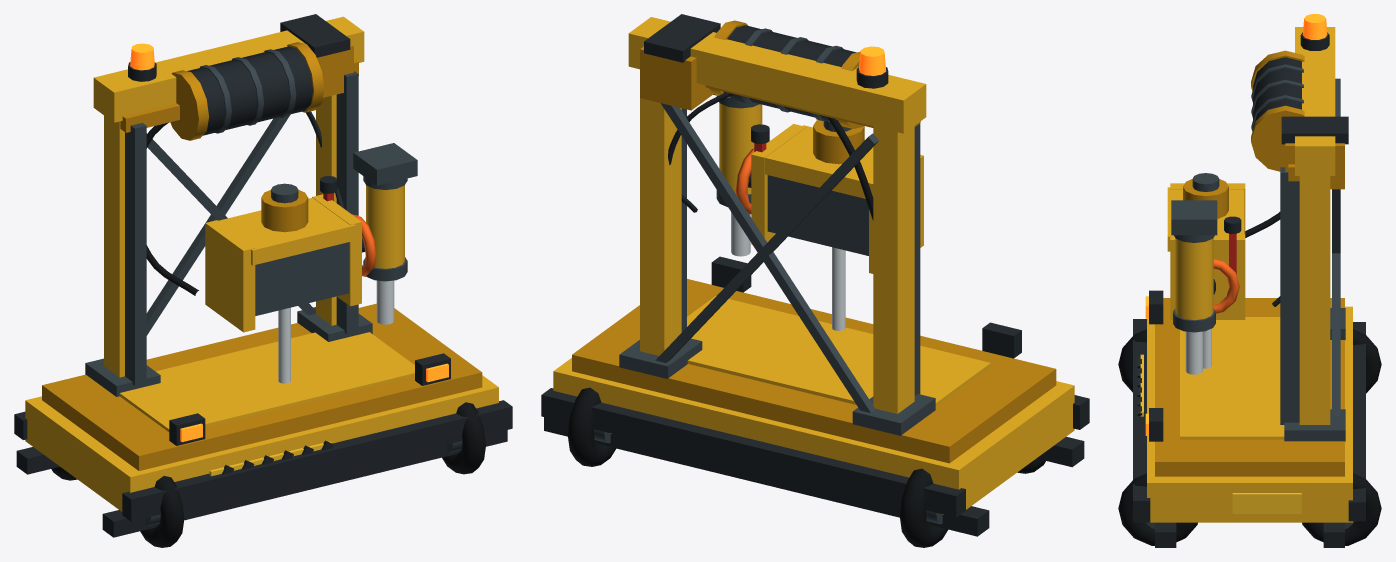
The model's file is asset.glb.
The picture shows the model from 3 angles, left to right: view 1: azimuth 30°, elevation 25°; view 2: azimuth 150°, elevation 25°; view 3: azimuth 270°, elevation 25°; orthographic projection. The views are drawn at different scales.
Visible parts, largest first — view 1: Compact_Industrial_Drill_Press; view 2: Compact_Industrial_Drill_Press; view 3: Compact_Industrial_Drill_Press.
Part boxes in pixels (left/top/right/bottom): Compact_Industrial_Drill_Press: left=14, top=14, right=512, bottom=547; Compact_Industrial_Drill_Press: left=541, top=14, right=1089, bottom=547; Compact_Industrial_Drill_Press: left=1118, top=14, right=1381, bottom=547.
Bounding box in the file's own units: 4.65 × 4.76 × 2.75.
